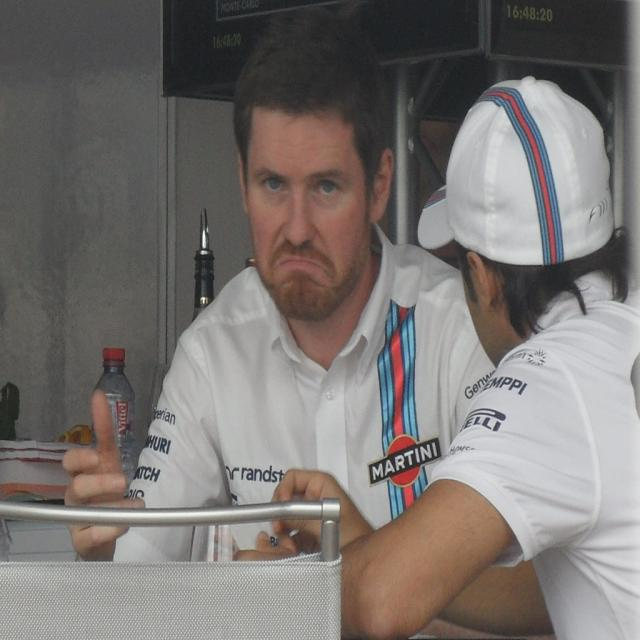Hat: (414, 73, 615, 264)
